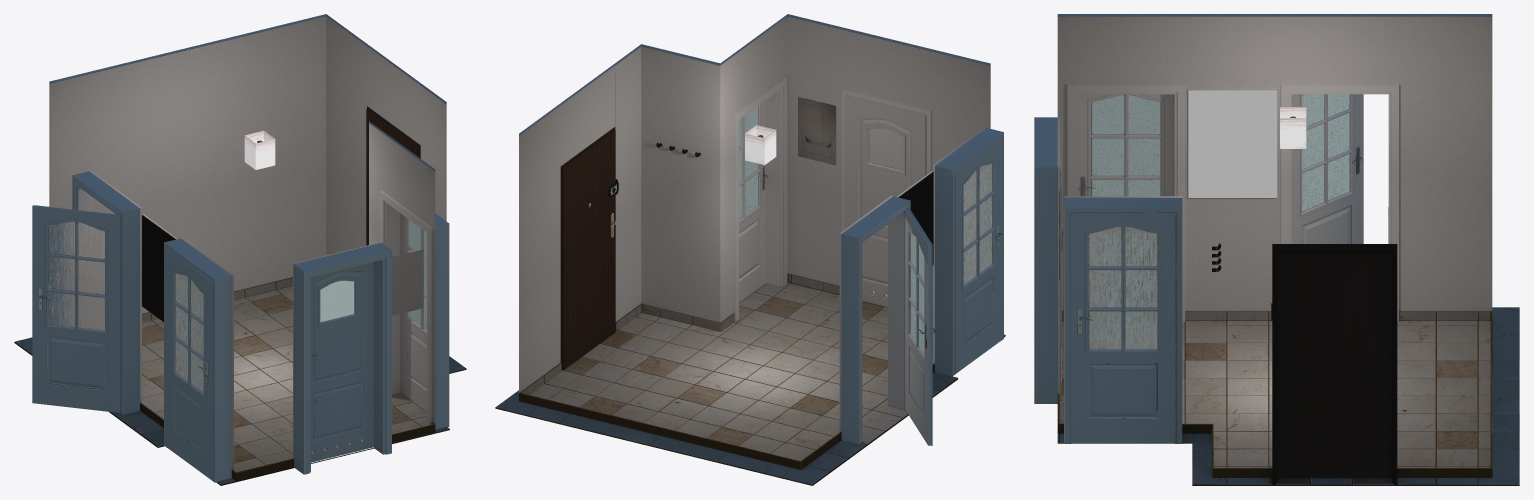
Rendered from hall.glb.
3 views of the same model, side by side, from view 1: azimuth 30°, elevation 25°; view 2: azimuth 150°, elevation 25°; view 3: azimuth 270°, elevation 25° (orthographic). The views are drawn at different scales.
Visible parts, largest first — view 1: bake_sciany_przedpokoj, dzwi_kuchnia, object 3, dzwi_lazienka, dzwi_duzy_pokoj, framuga_lazienka, framuga.003, framuga.001, framuga, dzwi_sypialnia, lustro, antyrama_lodka (+2 smaller); view 2: bake_sciany_przedpokoj, object 3, dzwi_wejsciowe, dzwi_lazienka, framuga.001, dzwi_duzy_pokoj, framuga, dzwi_kuchnia, framuga.003, dzwi_sypialnia, antyrama_lodka, framuga_lazienka (+3 smaller); view 3: bake_sciany_przedpokoj, object 3, dzwi_wejsciowe, dzwi_sypialnia, dzwi_kuchnia, dzwi_duzy_pokoj, lustro, framuga_lazienka, framuga.003, framuga.001, framuga_dzwi_wejsciowe, framuga (+2 smaller).
Part boxes in pixels (x1,y1,x2,y2): bake_sciany_przedpokoj: [49, 14, 446, 423]; dzwi_kuchnia: [32, 205, 120, 412]; object 3: [14, 277, 466, 485]; dzwi_lazienka: [311, 262, 374, 462]; dzwi_duzy_pokoj: [166, 249, 211, 479]; framuga_lazienka: [293, 242, 391, 474]; framuga.003: [379, 190, 449, 429]; framuga.001: [72, 170, 141, 414]; framuga: [164, 238, 233, 482]; dzwi_sypialnia: [400, 214, 426, 411]; lustro: [141, 214, 177, 322]; antyrama_lodka: [392, 249, 423, 315]; bake_sciany_przedpokoj: [519, 14, 990, 392]; object 3: [495, 273, 1005, 485]; dzwi_wejsciowe: [561, 129, 618, 370]; dzwi_lazienka: [845, 95, 925, 307]; framuga.001: [839, 195, 910, 444]; dzwi_duzy_pokoj: [955, 139, 1002, 373]; framuga: [933, 127, 1003, 376]; dzwi_kuchnia: [905, 207, 935, 445]; framuga.003: [733, 77, 787, 321]; dzwi_sypialnia: [739, 100, 767, 302]; antyrama_lodka: [798, 96, 836, 165]; framuga_lazienka: [841, 88, 931, 231]; bake_sciany_przedpokoj: [1057, 14, 1492, 311]; object 3: [1057, 307, 1519, 485]; dzwi_wejsciowe: [1271, 254, 1391, 477]; dzwi_sypialnia: [1070, 213, 1175, 443]; dzwi_kuchnia: [1291, 94, 1363, 243]; dzwi_duzy_pokoj: [1078, 94, 1174, 196]; lustro: [1188, 89, 1277, 197]; framuga_lazienka: [1034, 117, 1059, 403]; framuga.003: [1064, 196, 1182, 443]; framuga.001: [1281, 84, 1398, 321]; framuga_dzwi_wejsciowe: [1272, 244, 1397, 484]; framuga: [1067, 84, 1185, 321].
Bounding box in the file's own units: 38.93 × 27.18 × 38.84.
41 materials, 38 textured.
